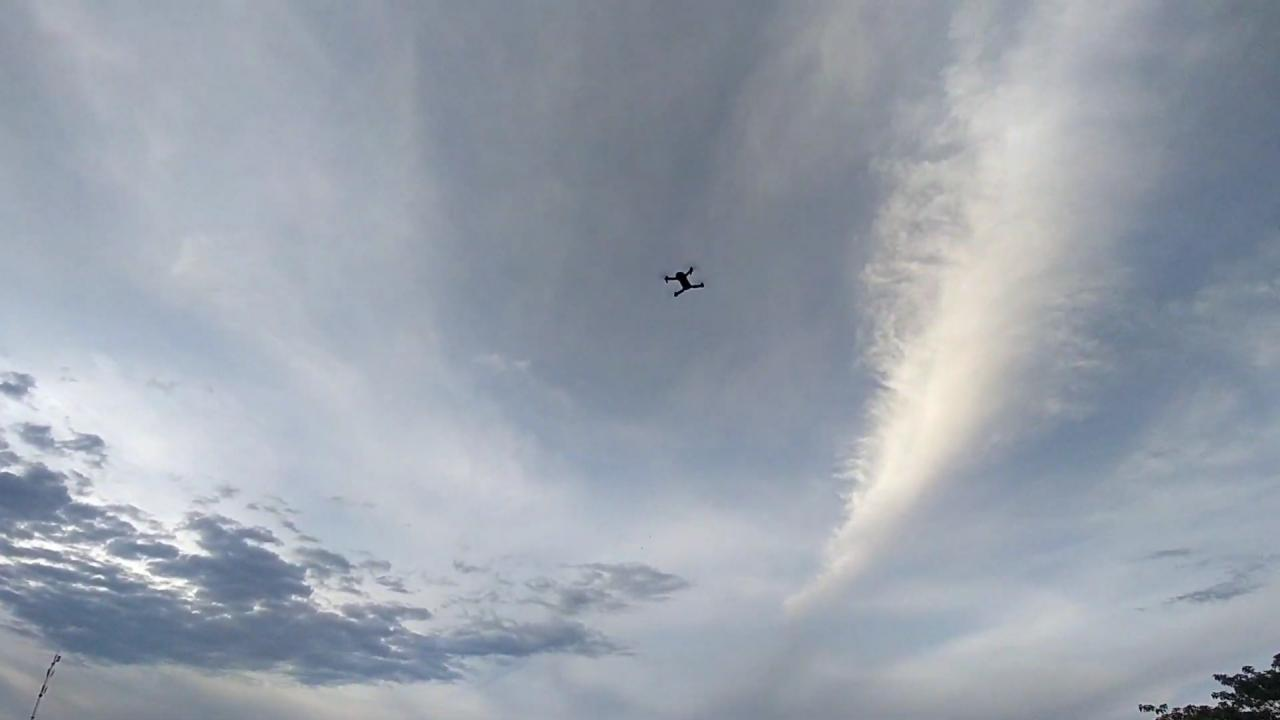Drone: (652, 253, 716, 311)
